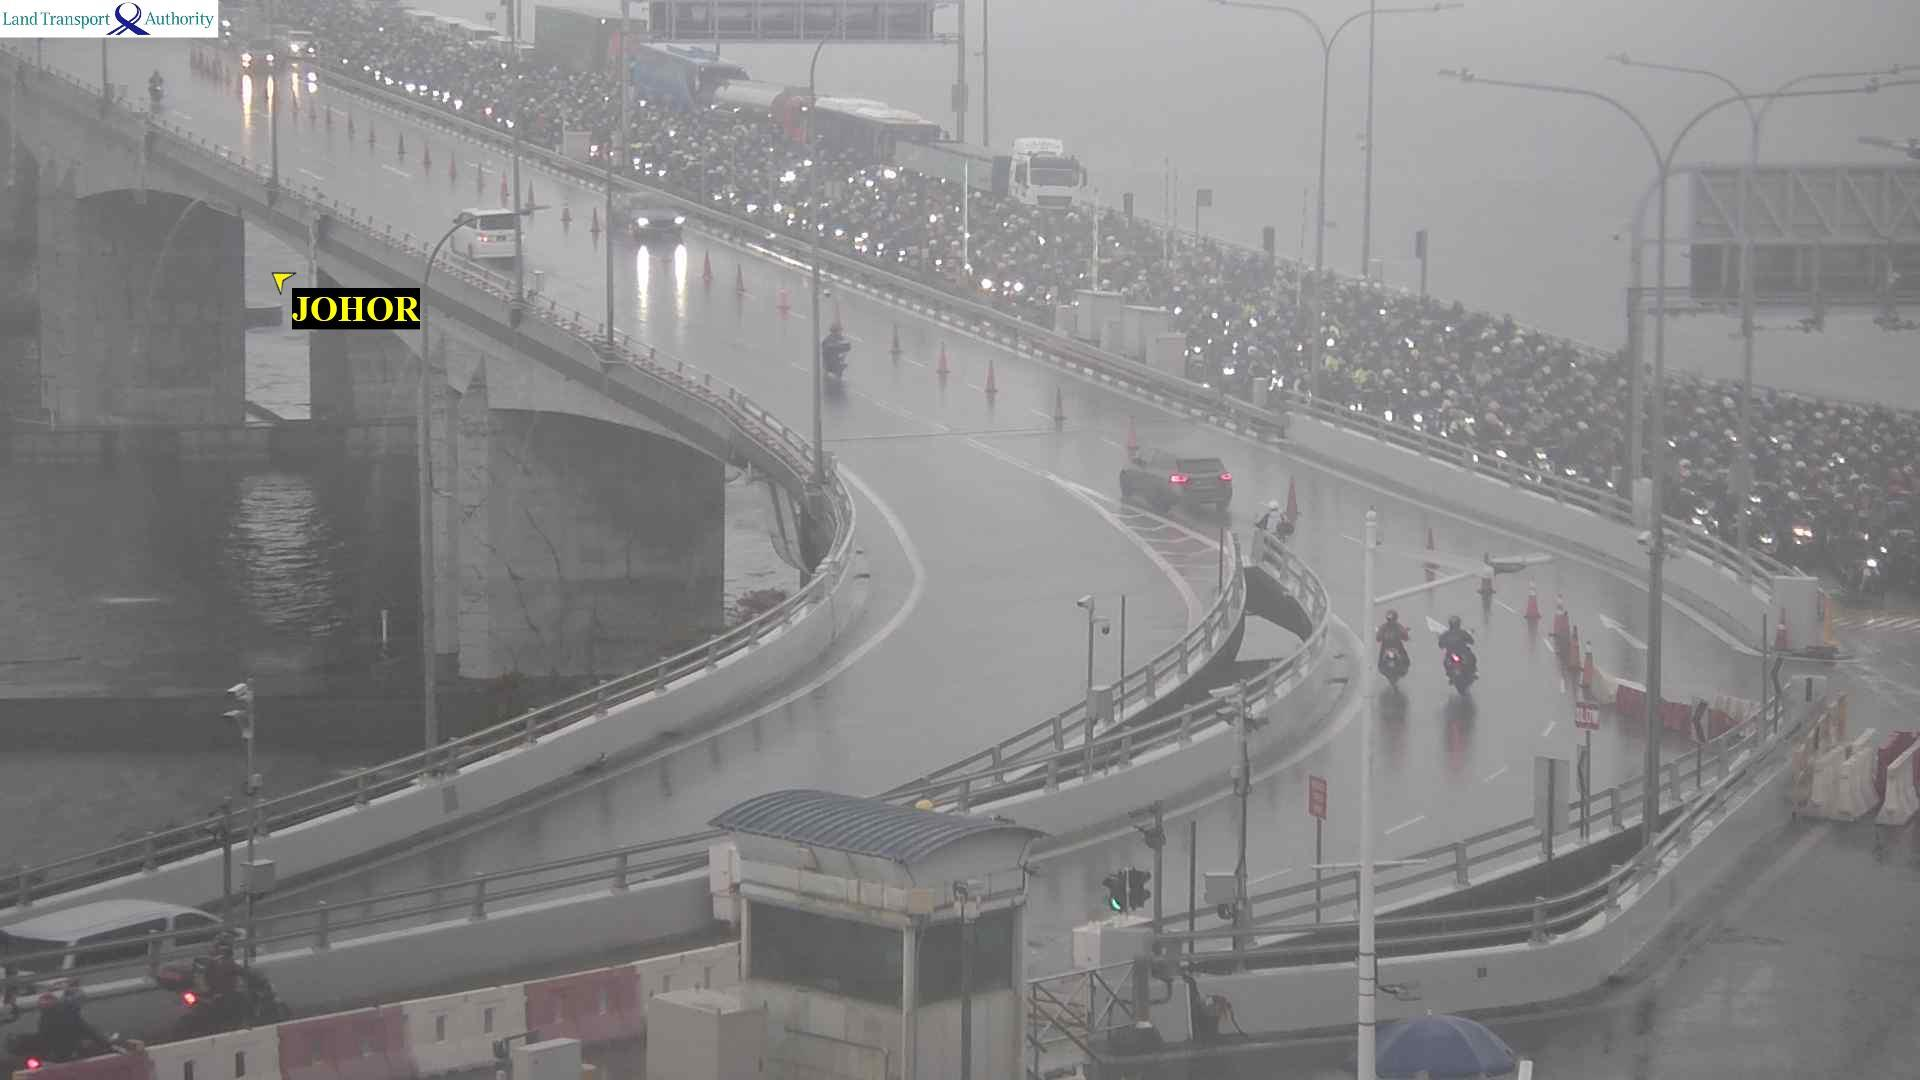vehicle-secondlink-johor: (0, 909, 249, 967), (156, 944, 282, 1029), (12, 986, 119, 1077), (1117, 452, 1232, 500), (448, 208, 522, 264), (1366, 615, 1404, 679), (1449, 613, 1482, 683), (814, 334, 844, 372), (1258, 504, 1283, 537), (148, 74, 165, 102)
vehicle-secondlink-singapore: (902, 142, 1083, 212), (807, 100, 942, 189), (633, 40, 748, 116), (535, 9, 645, 73), (719, 87, 816, 125), (1842, 534, 1888, 595), (1783, 483, 1811, 547), (632, 208, 691, 237), (1679, 492, 1717, 534), (1370, 368, 1407, 402), (1449, 405, 1477, 446), (251, 40, 281, 74), (1319, 319, 1341, 356), (493, 41, 534, 61), (729, 170, 750, 208), (1526, 444, 1548, 475), (459, 26, 498, 44), (284, 36, 315, 57), (431, 17, 472, 33), (1166, 301, 1189, 327), (704, 166, 723, 196), (404, 9, 434, 28), (576, 111, 595, 127), (401, 80, 417, 96), (452, 96, 464, 116), (430, 84, 442, 103), (338, 54, 351, 70), (359, 61, 372, 75)
